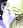with_mask: (1, 2, 23, 28)
